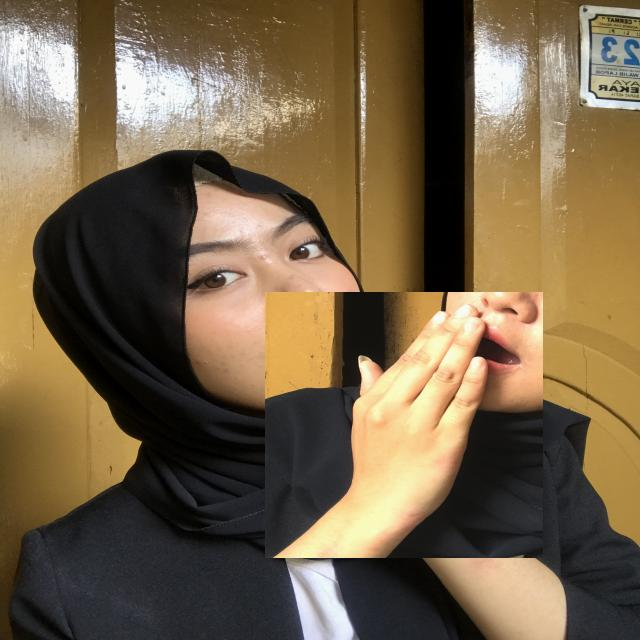ngantuk: (265, 292, 543, 558)
